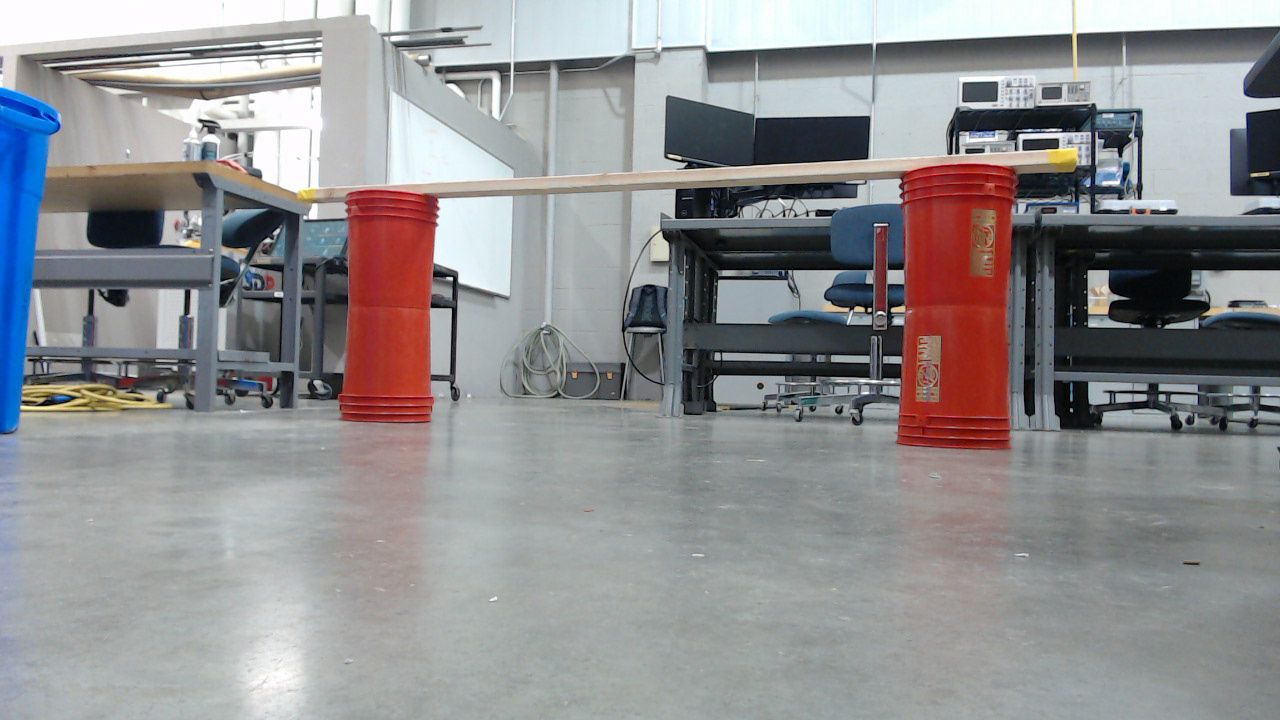red_bucket_arch: (337, 155, 1030, 459)
